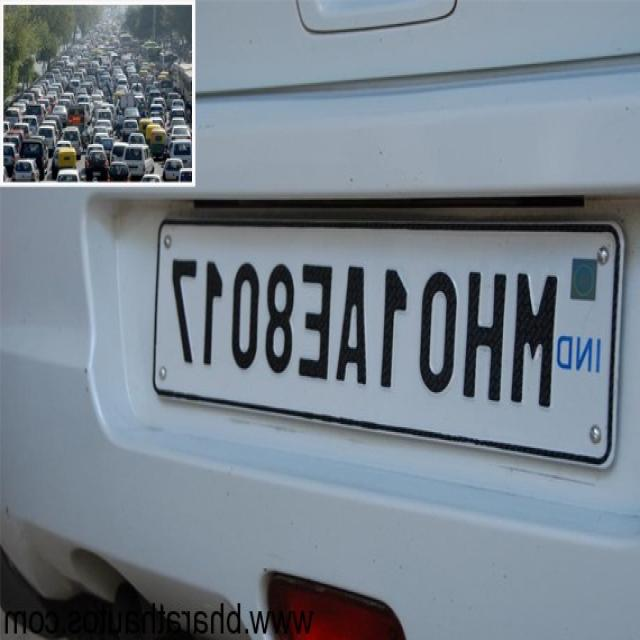number-plate: (149, 217, 621, 424)
